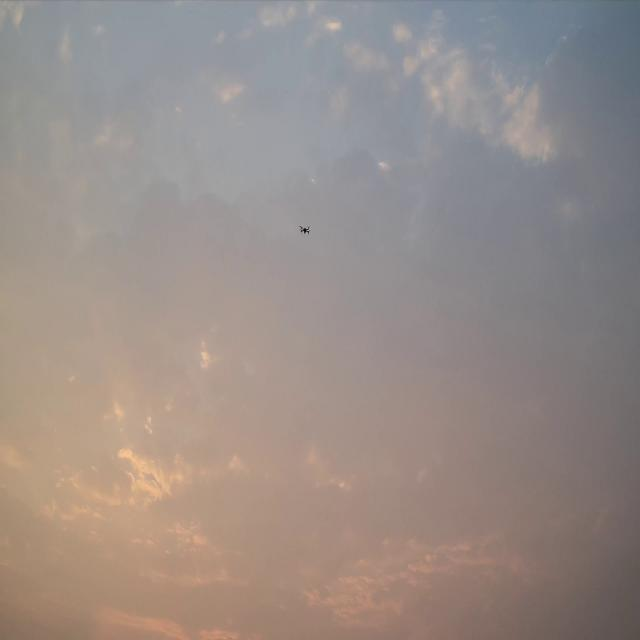UAV: (299, 224, 311, 235)
